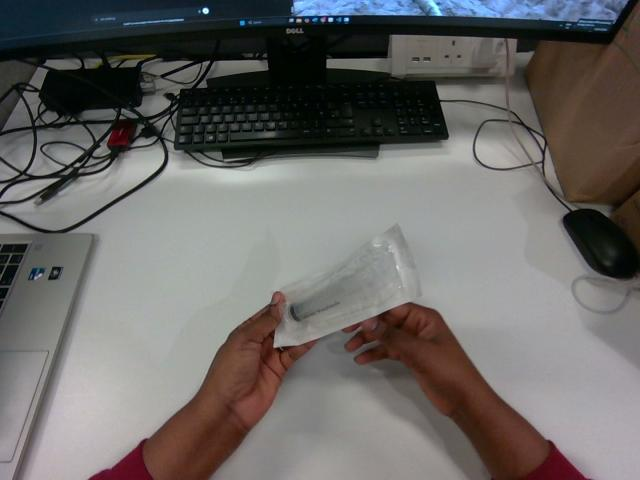syringe: (274, 224, 420, 346)
